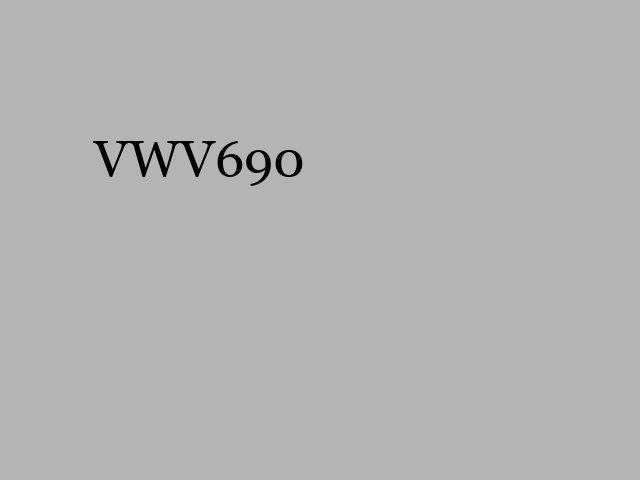OCR_AREA: (89, 137, 309, 190)
